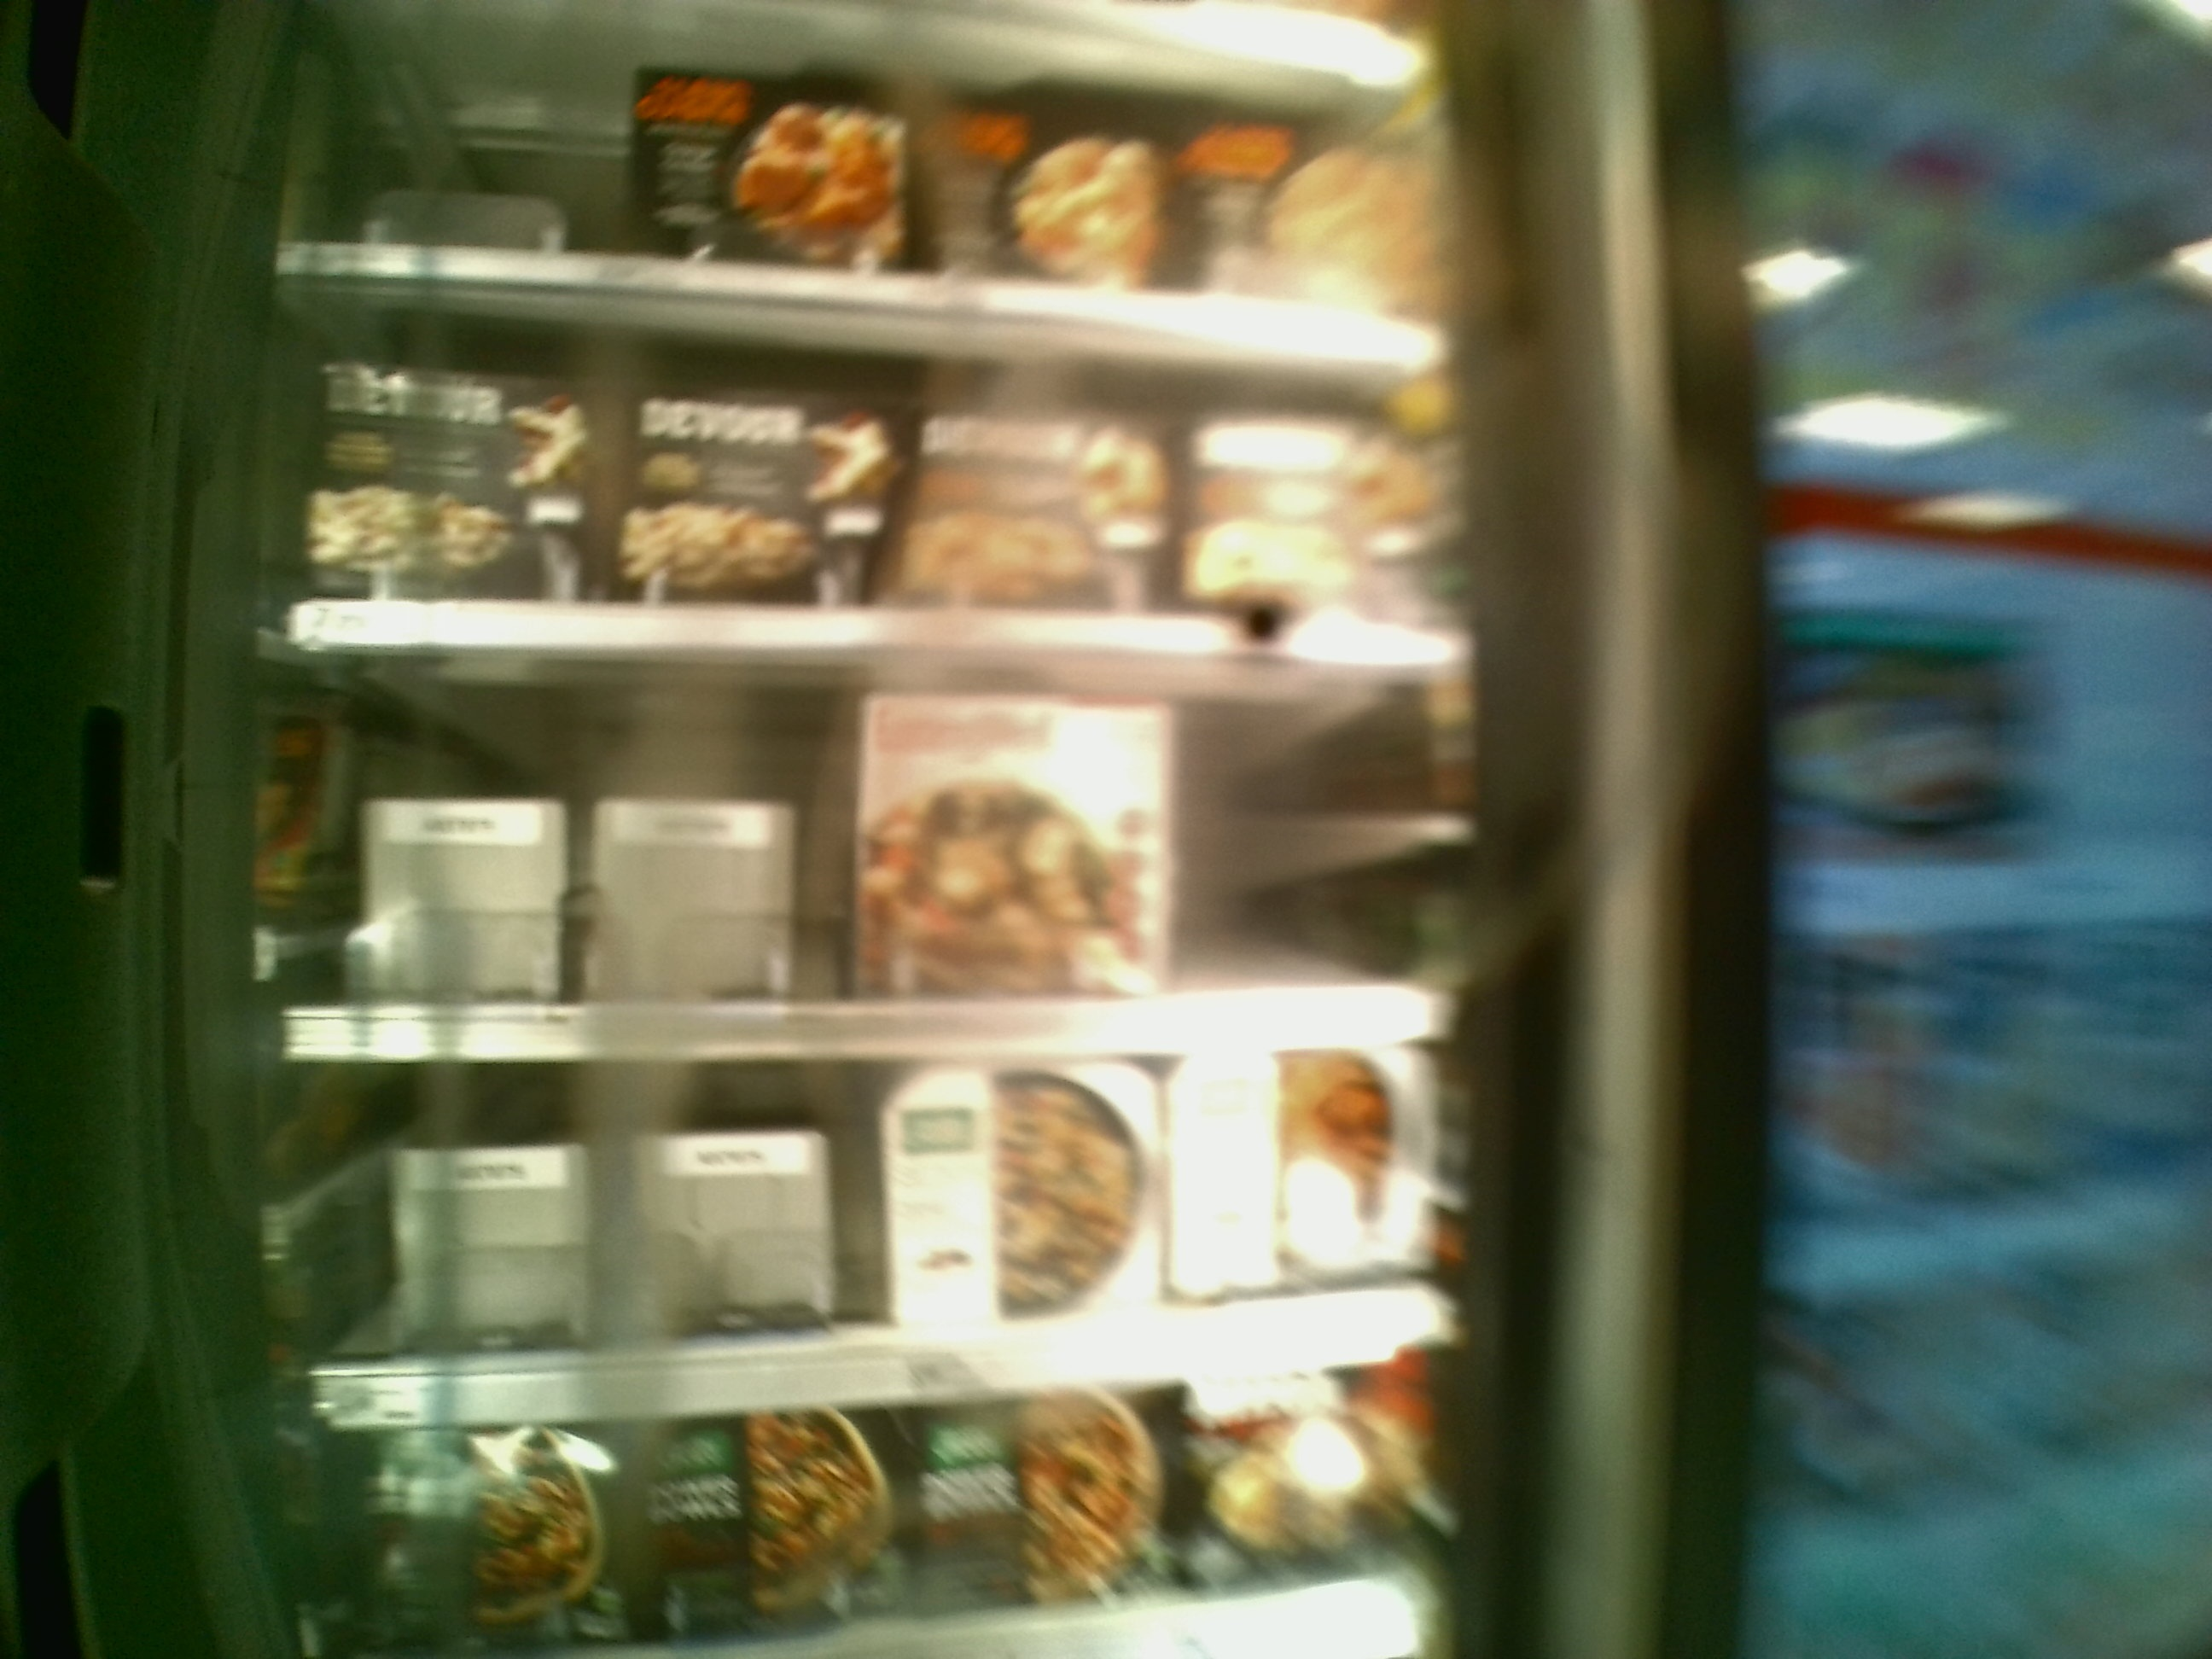Shelf: (265, 260, 1479, 660), (280, 638, 1451, 1049)
